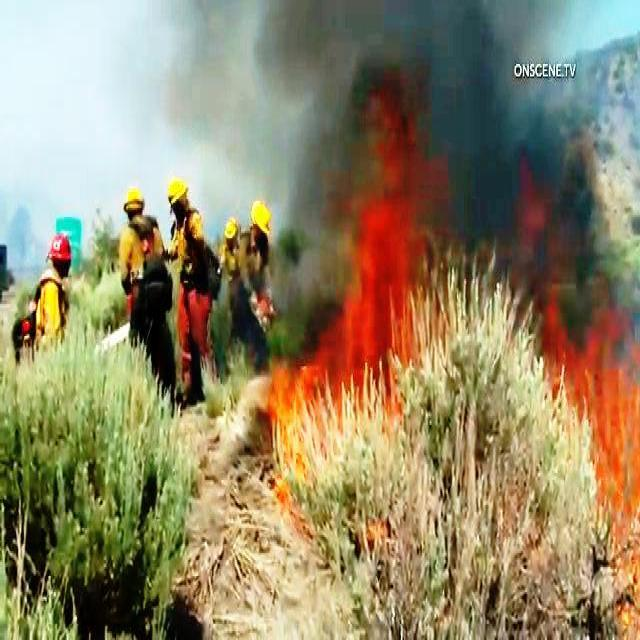Fire: (279, 103, 426, 517), (556, 286, 640, 512)
Smoke: (430, 42, 520, 268)
